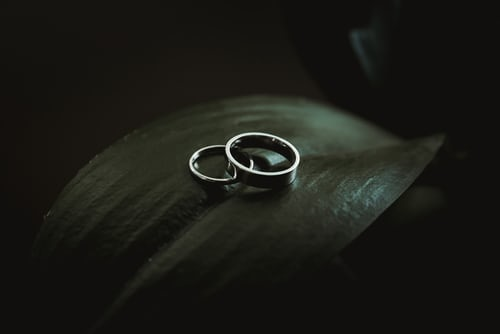ring: (189, 120, 300, 191)
